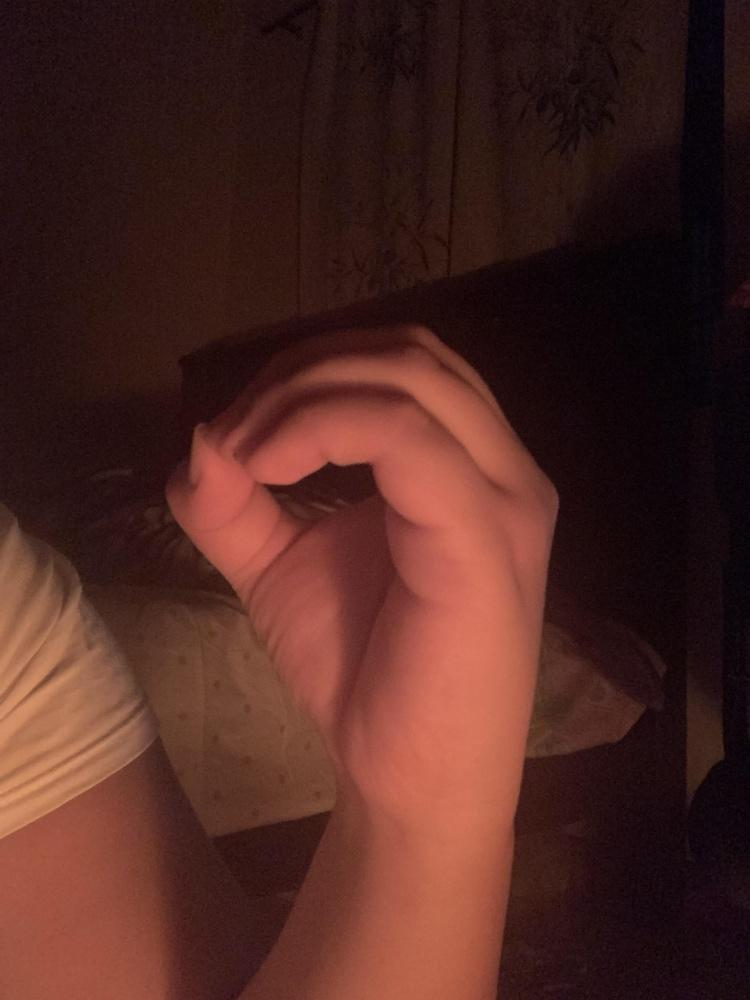o: (161, 324, 564, 808)
